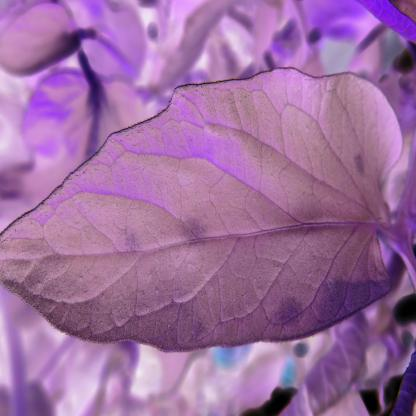tomato leaf: (0, 67, 396, 370)
